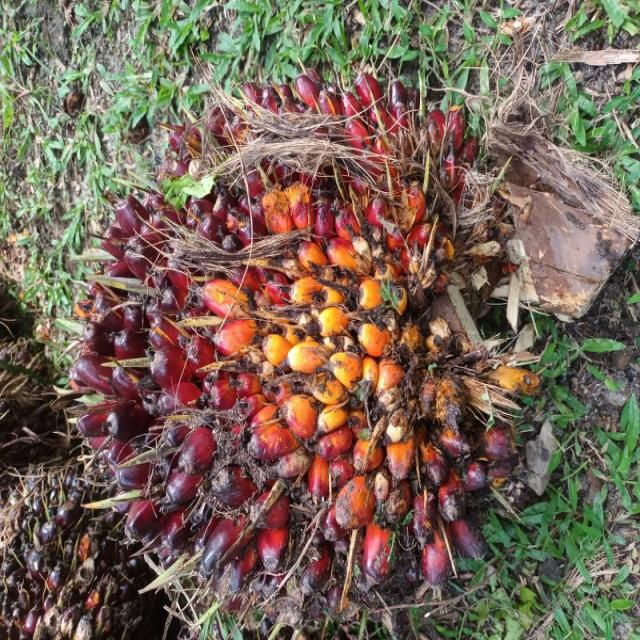fraksi 1: (4, 130, 450, 640)
